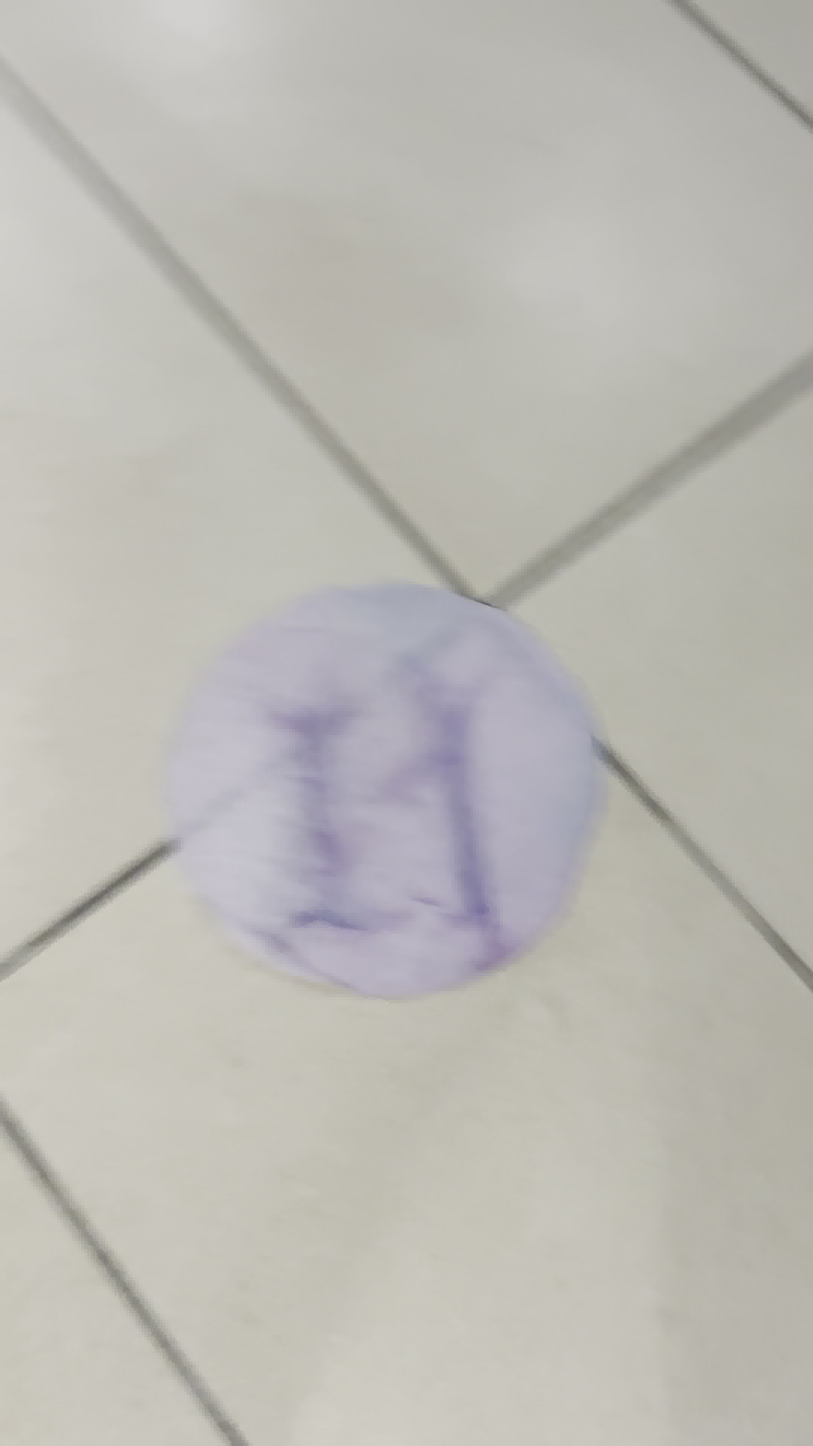Target: (167, 583, 596, 1000)
